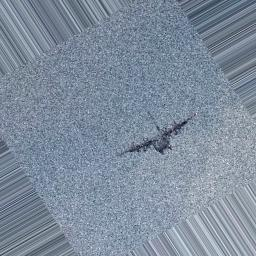Airplane: (116, 110, 198, 157)
